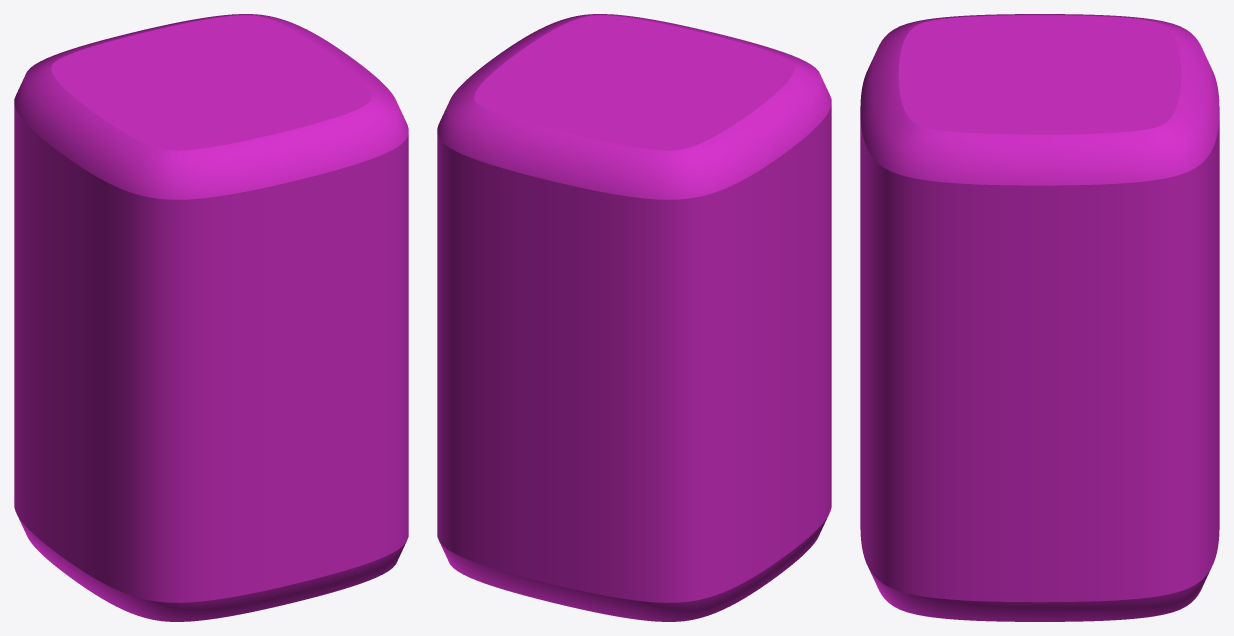
The model's file is FullStop.fbx.
The picture shows the model from 3 angles, left to right: view 1: azimuth 30°, elevation 25°; view 2: azimuth 150°, elevation 25°; view 3: azimuth 270°, elevation 25°; orthographic projection. The views are drawn at different scales.
Visible parts, largest first — view 1: FullStop; view 2: FullStop; view 3: FullStop.
Boxes of the visible parts, x1,y1,x2,y2 form: FullStop: (14, 14, 408, 621); FullStop: (437, 14, 831, 621); FullStop: (860, 14, 1219, 621).
Bounding box in the file's own units: 0.0938 × 0.14 × 0.0938.
